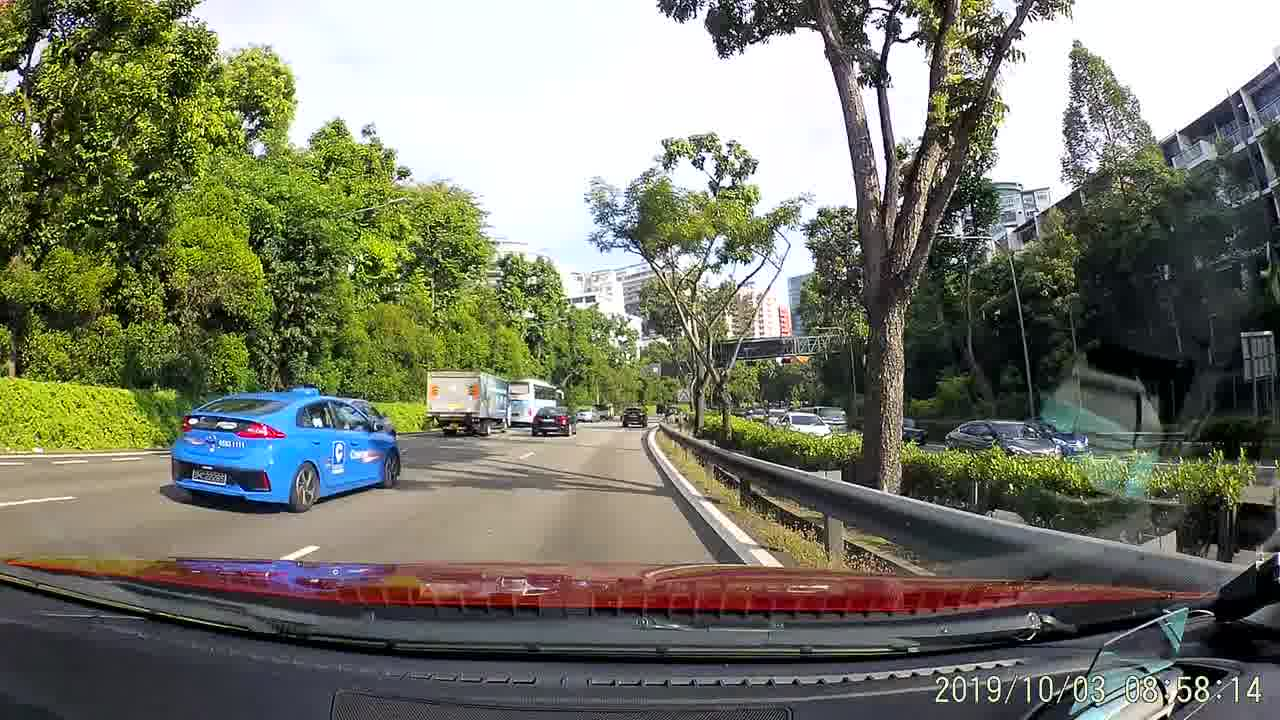bus: (511, 375, 563, 430)
car: (166, 387, 403, 511), (945, 415, 1064, 461), (1024, 419, 1091, 459), (528, 401, 580, 436), (776, 410, 833, 441), (902, 414, 929, 447), (621, 405, 649, 431), (573, 402, 602, 422)
